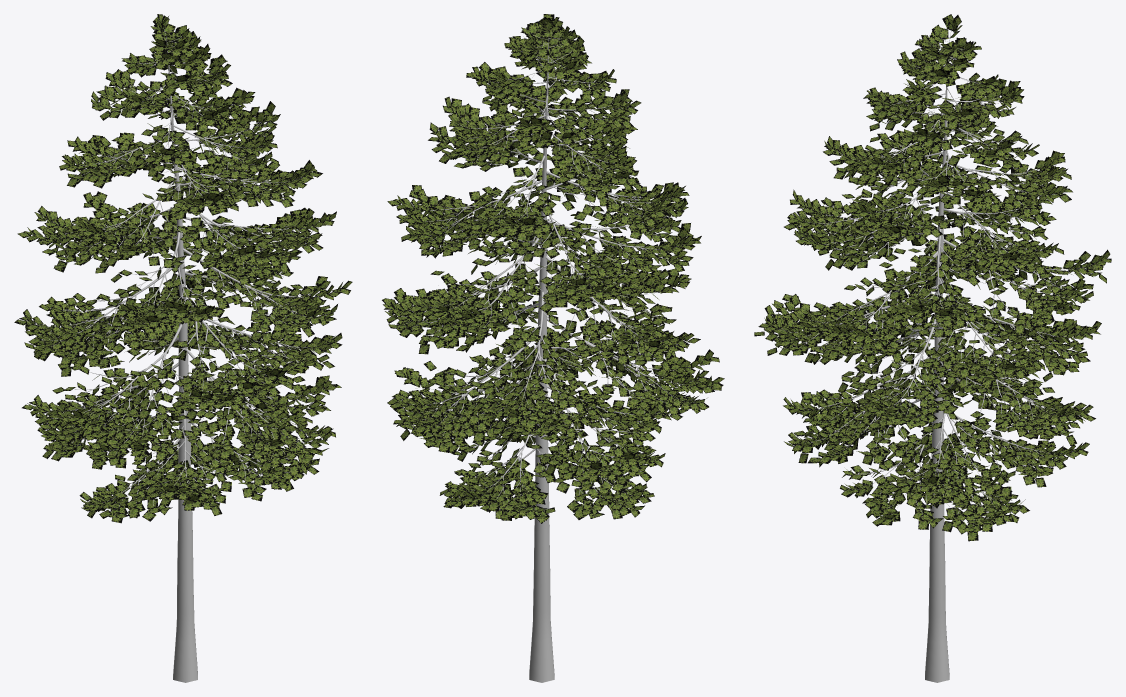
Rendered from Arbol1.fbx.
3 renders of one model, left to right at view 1: azimuth 30°, elevation 25°; view 2: azimuth 150°, elevation 25°; view 3: azimuth 270°, elevation 25°, orthographic. The views are drawn at different scales.
Parts seen in each view (by area): view 1: leaves.001, tree.001; view 2: leaves.001, tree.001; view 3: leaves.001, tree.001.
Part boxes in pixels (x1,y1,x2,y2): leaves.001: [14, 14, 352, 523]; tree.001: [31, 28, 335, 682]; leaves.001: [382, 14, 724, 523]; tree.001: [401, 33, 710, 682]; leaves.001: [754, 14, 1111, 541]; tree.001: [774, 28, 1094, 682].
Bounding box in the file's own units: 572 × 1184 × 587.
